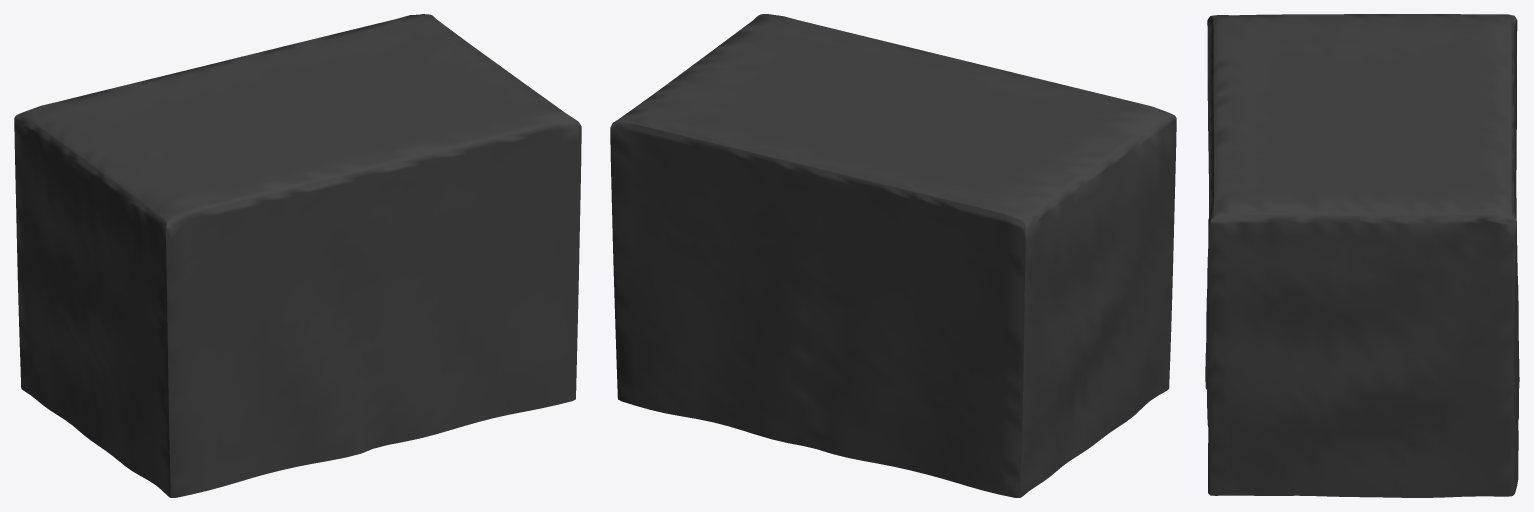
Rendered from fitted-4ft-4-30.glb.
3 renders of one model, left to right at view 1: azimuth 30°, elevation 25°; view 2: azimuth 150°, elevation 25°; view 3: azimuth 270°, elevation 25°, orthographic.
Parts seen in each view (by area): view 1: geometry_0; view 2: geometry_0; view 3: geometry_0.
Part boxes in pixels (bbox=[...]): geometry_0: bbox=[14, 14, 581, 497]; geometry_0: bbox=[610, 14, 1176, 497]; geometry_0: bbox=[1205, 14, 1519, 497].
Size of the model in its own units: 1.26 by 0.8065 by 0.7992.
Materials: 1 (1 with a texture image).
